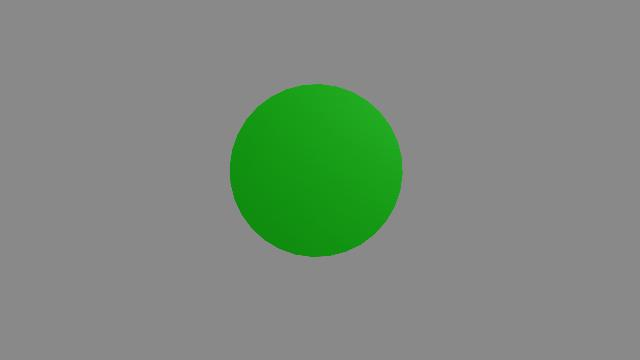Cylinder: (219, 81, 411, 268)
